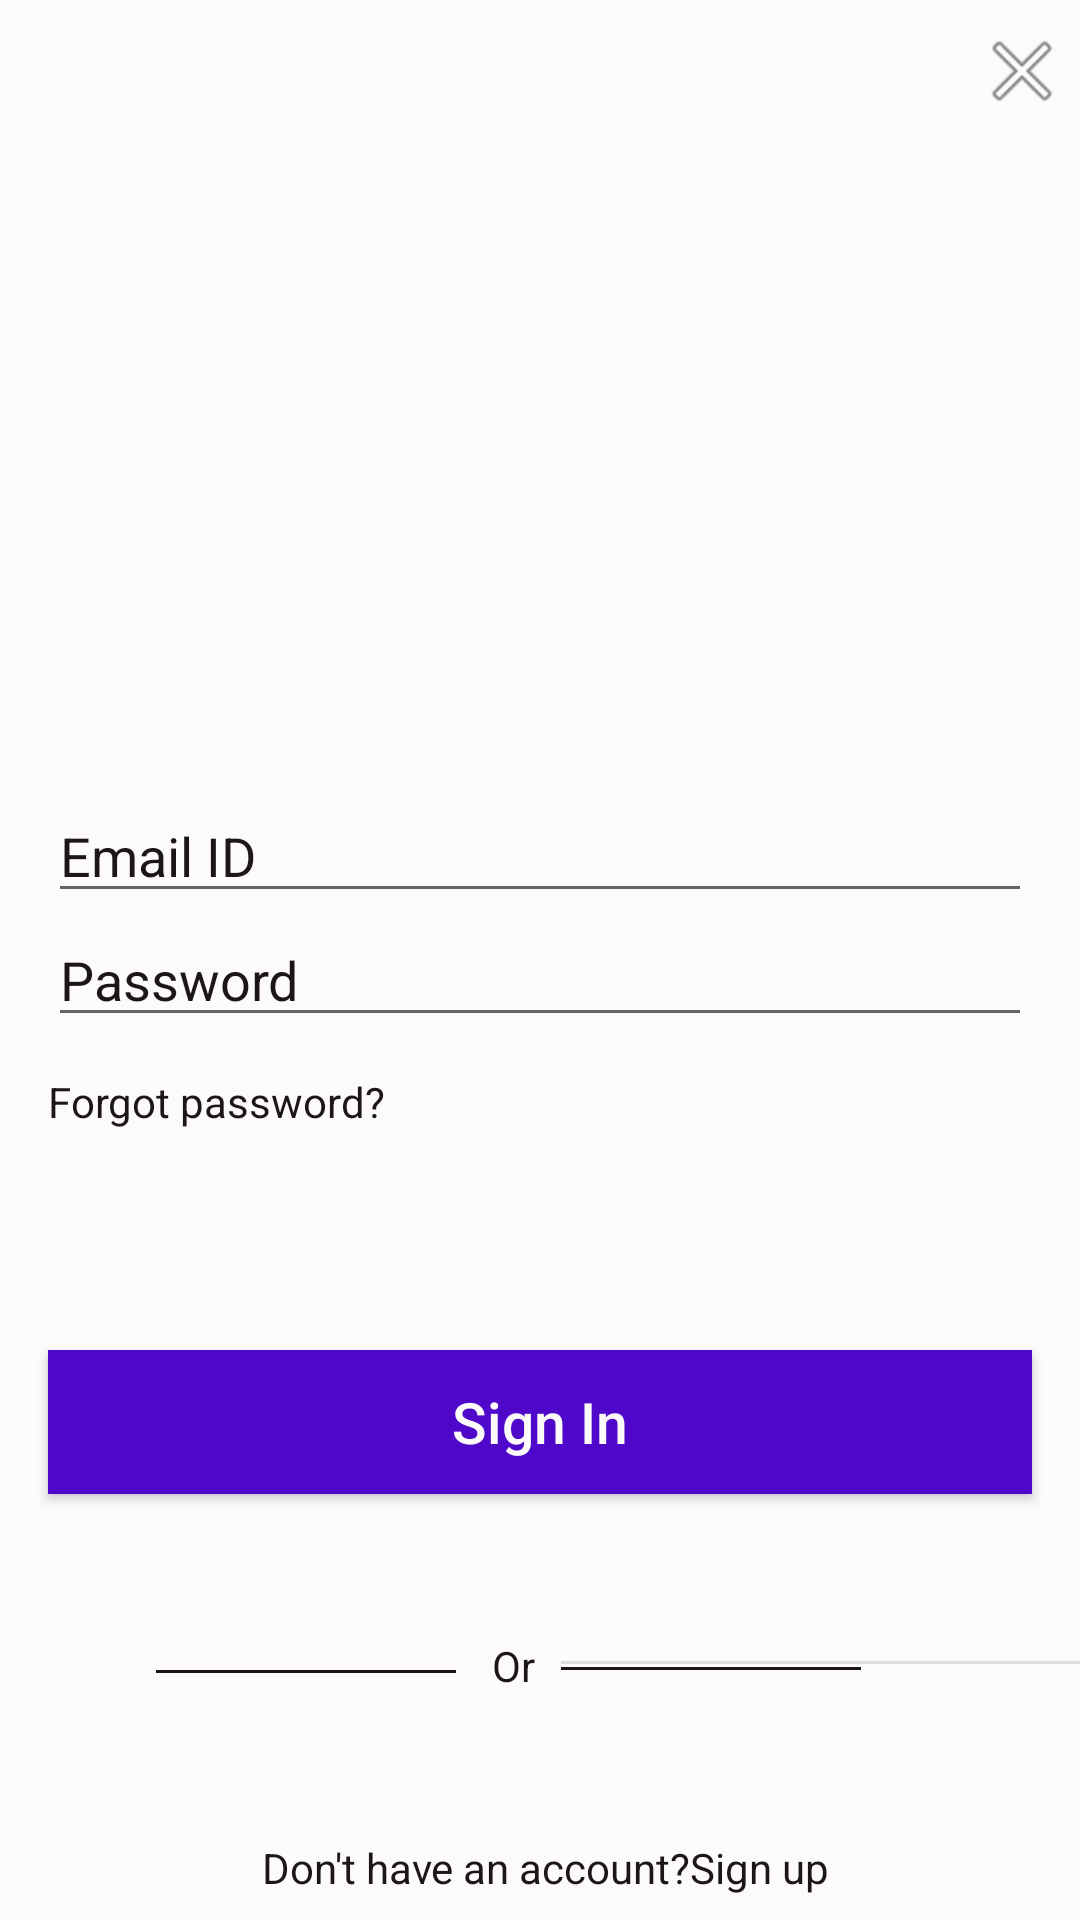

Where to tap for icons on this 1080×1920 app screen, as point (x, y):
close clear cancel: point (1022, 71)
